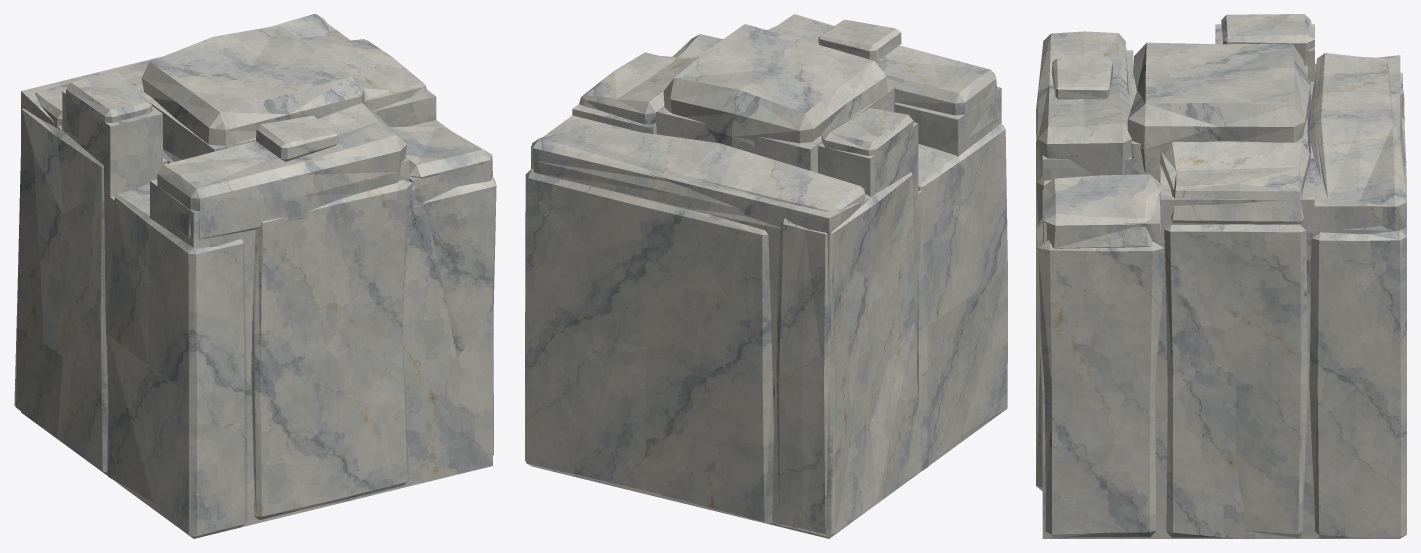
The model's file is wall_stone_03.glb.
3 renders of one model, left to right at view 1: azimuth 30°, elevation 25°; view 2: azimuth 150°, elevation 25°; view 3: azimuth 270°, elevation 25°, orthographic. The views are drawn at different scales.
Visible parts, largest first — view 1: WallStone03; view 2: WallStone03; view 3: WallStone03.
Boxes of the visible parts, bbox=[...] form: WallStone03: bbox=[14, 14, 496, 538]; WallStone03: bbox=[525, 14, 1007, 538]; WallStone03: bbox=[1036, 14, 1406, 538].
Bounding box in the file's own units: 1 × 1.17 × 1.
Materials: 1 (1 with a texture image).
